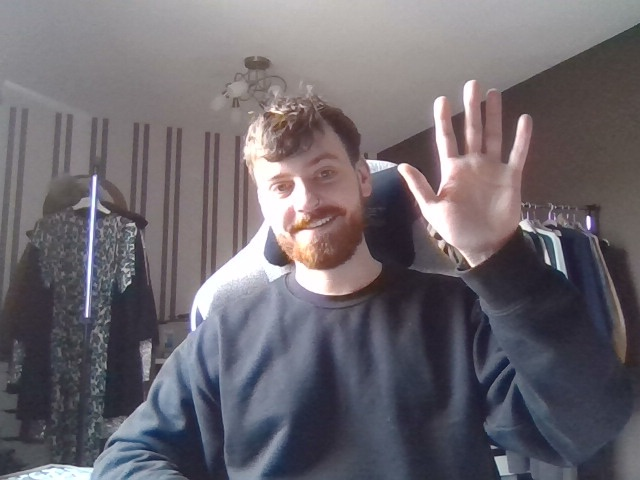Hello: (385, 76, 570, 269)
